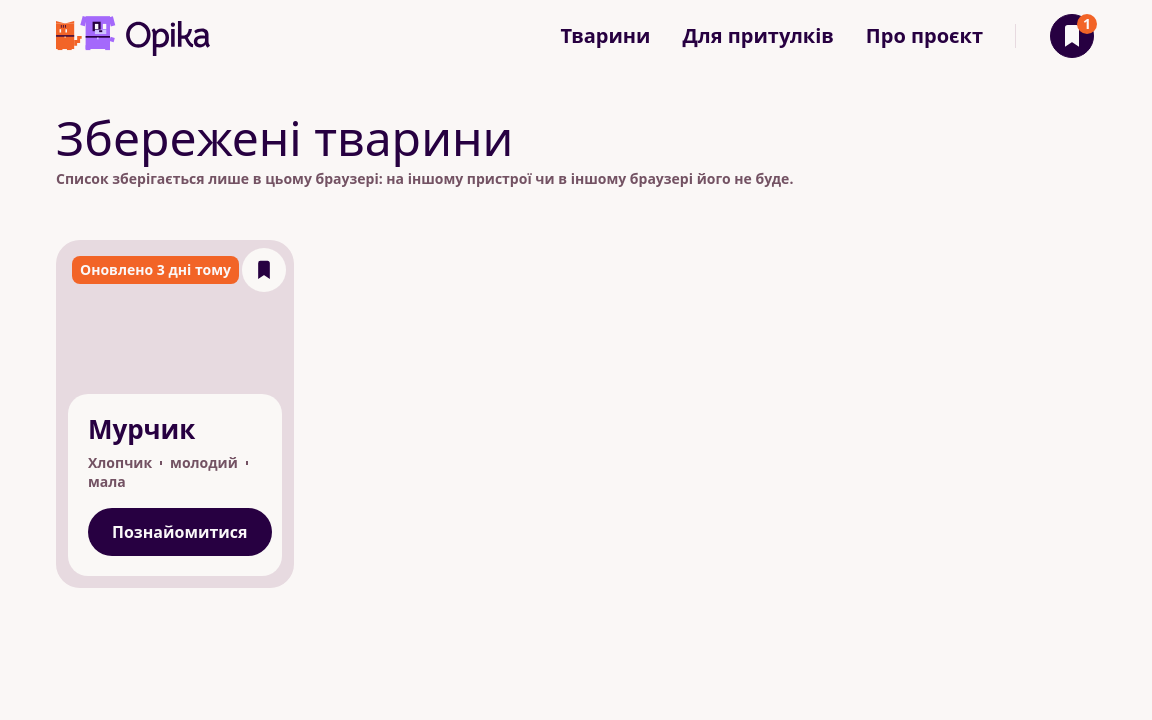
SavedPageScreen › removing the only saved item empties the page with no second fetch - there is nothing left to ask for
The image size is (1152, 720).
Check: the link "Мурчик" is shown, box [56,240,294,588]
Click the button with test id "saved-remove".
click(264, 270)  # box [242,248,286,292]
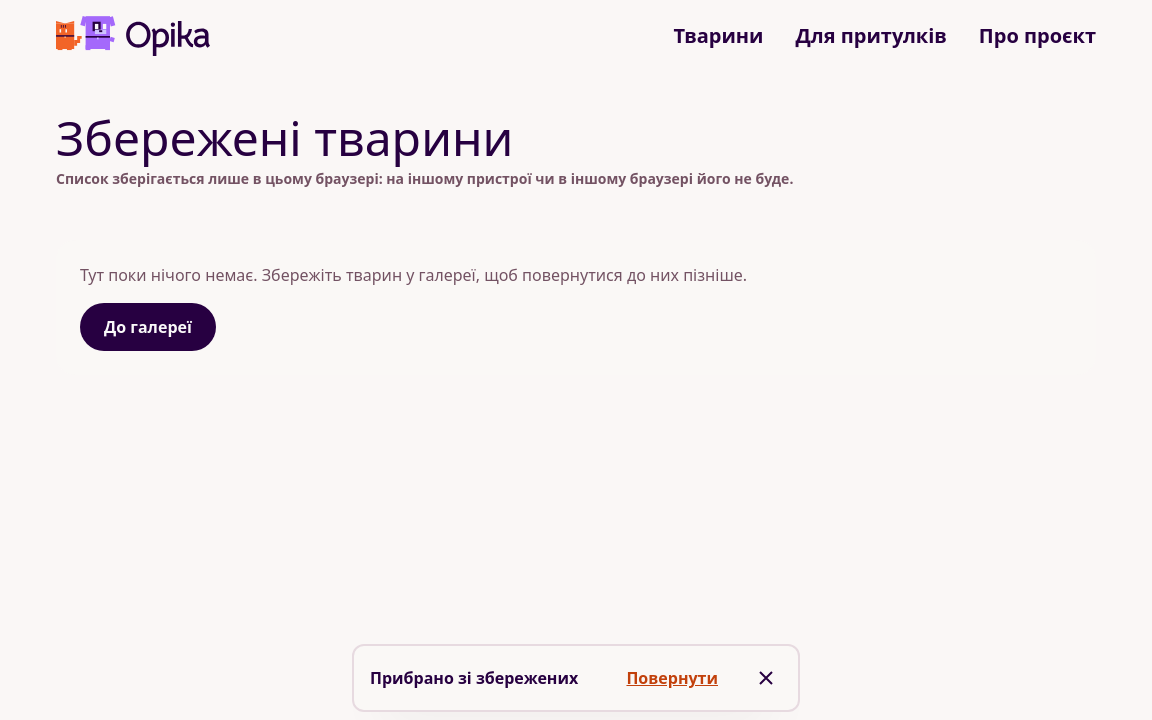
Check: the element with test id "saved-empty" is shown, box [56,240,1096,375]
